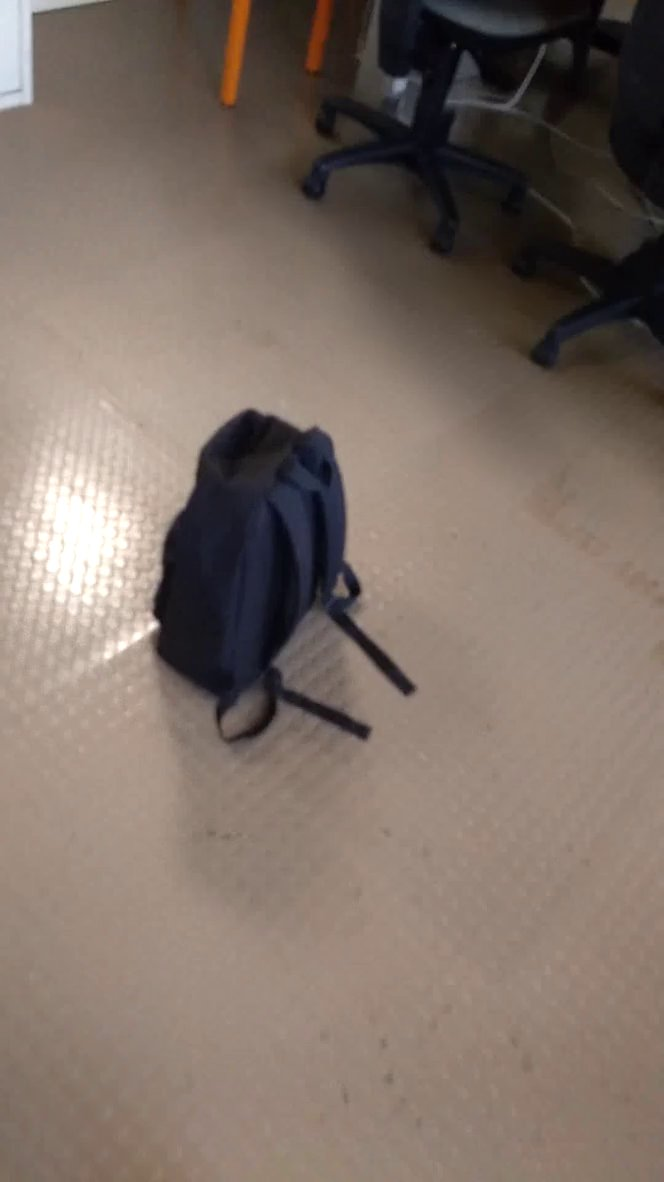bag: (142, 401, 430, 755)
